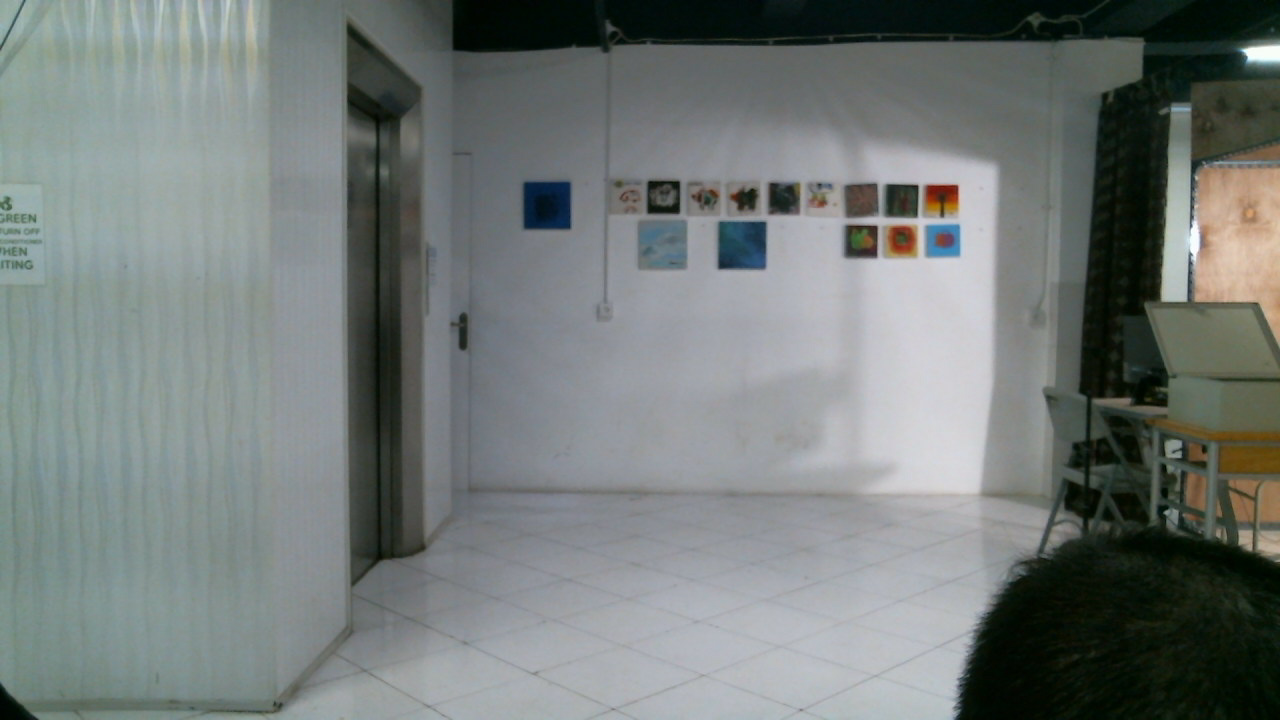bg: (122, 10, 1095, 534)
